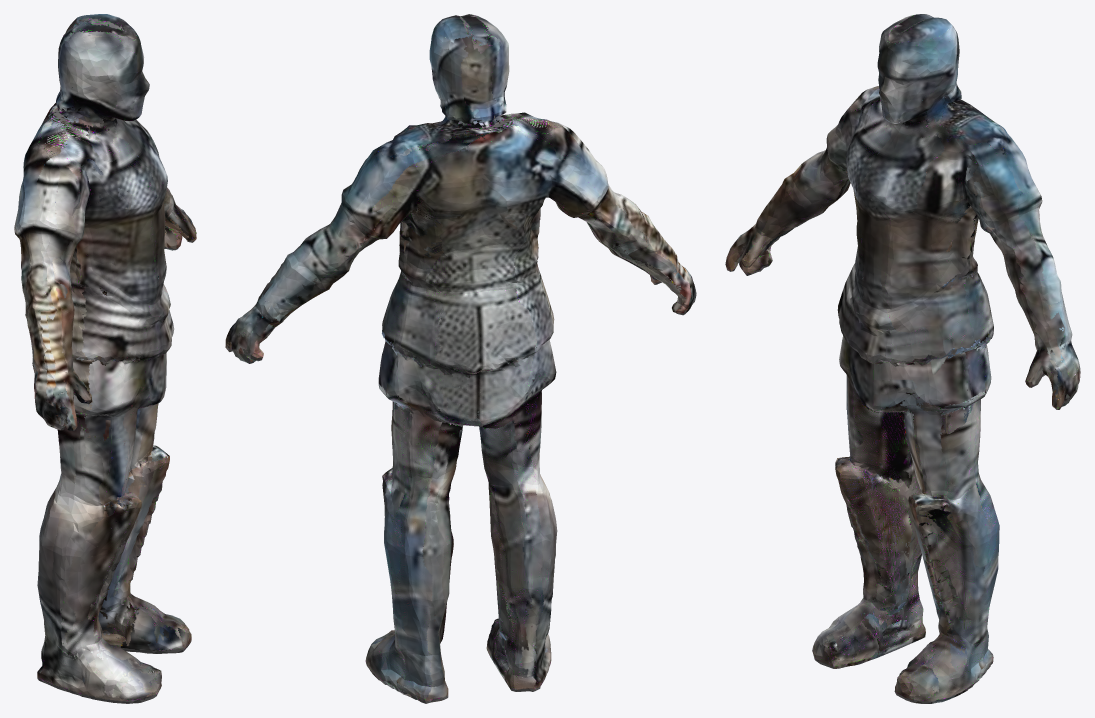
Rendered from armor_man_m0.glb.
3 renders of one model, left to right at view 1: azimuth 30°, elevation 25°; view 2: azimuth 150°, elevation 25°; view 3: azimuth 270°, elevation 25°, orthographic. The views are drawn at different scales.
Parts seen in each view (by area): view 1: mesh; view 2: mesh; view 3: mesh.
Part boxes in pixels (x1,y1,x2,y2): mesh: (14, 14, 196, 703); mesh: (225, 14, 696, 703); mesh: (725, 14, 1080, 703).
Size of the model in its own units: 0.5878 by 1.18 by 0.5881.
1 material, 1 textured.
